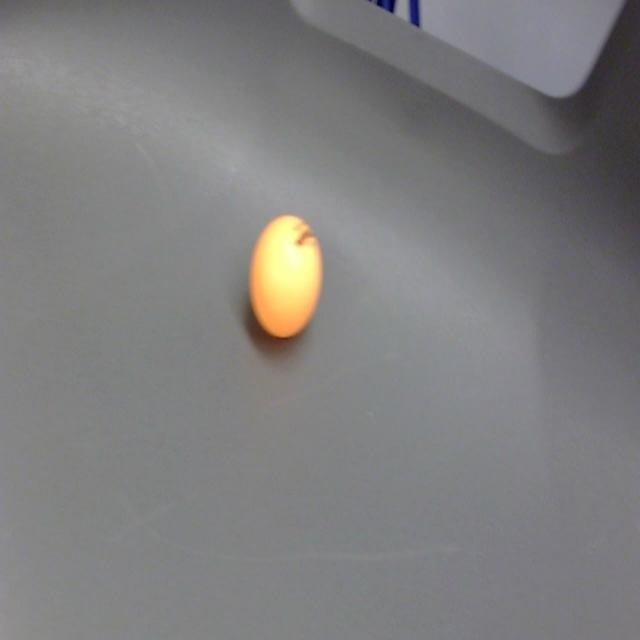ball: (248, 212, 324, 347)
